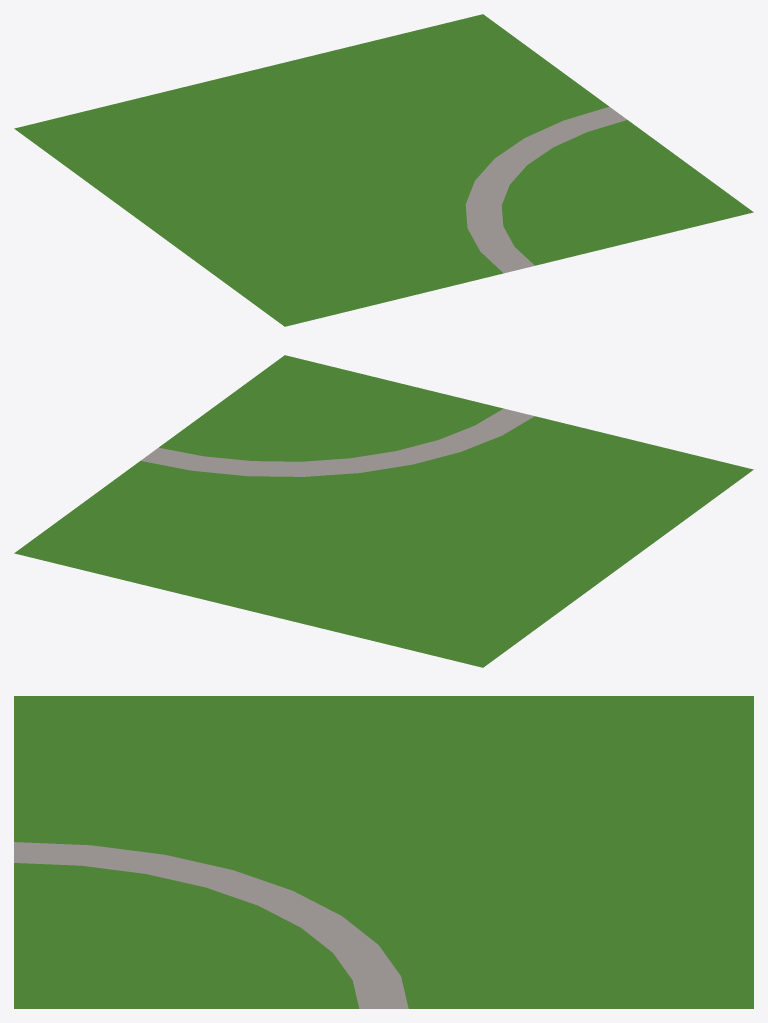
The model's file is tiles-nb_tile-sidewalk-curve-nb.fbx.
3 renders of one model, top to bottom at view 1: azimuth 30°, elevation 25°; view 2: azimuth 150°, elevation 25°; view 3: azimuth 270°, elevation 25°, orthographic. The views are drawn at different scales.
Parts seen in each view (by area): view 1: tiles_nb_tile_sidewalk_curve_nb; view 2: tiles_nb_tile_sidewalk_curve_nb; view 3: tiles_nb_tile_sidewalk_curve_nb.
Boxes of the visible parts, <box> form: tiles_nb_tile_sidewalk_curve_nb: <box>14,14,753,326</box>; tiles_nb_tile_sidewalk_curve_nb: <box>14,355,753,667</box>; tiles_nb_tile_sidewalk_curve_nb: <box>14,696,753,1008</box>.
Size of the model in its own units: 200 by 2.58e-05 by 200.
